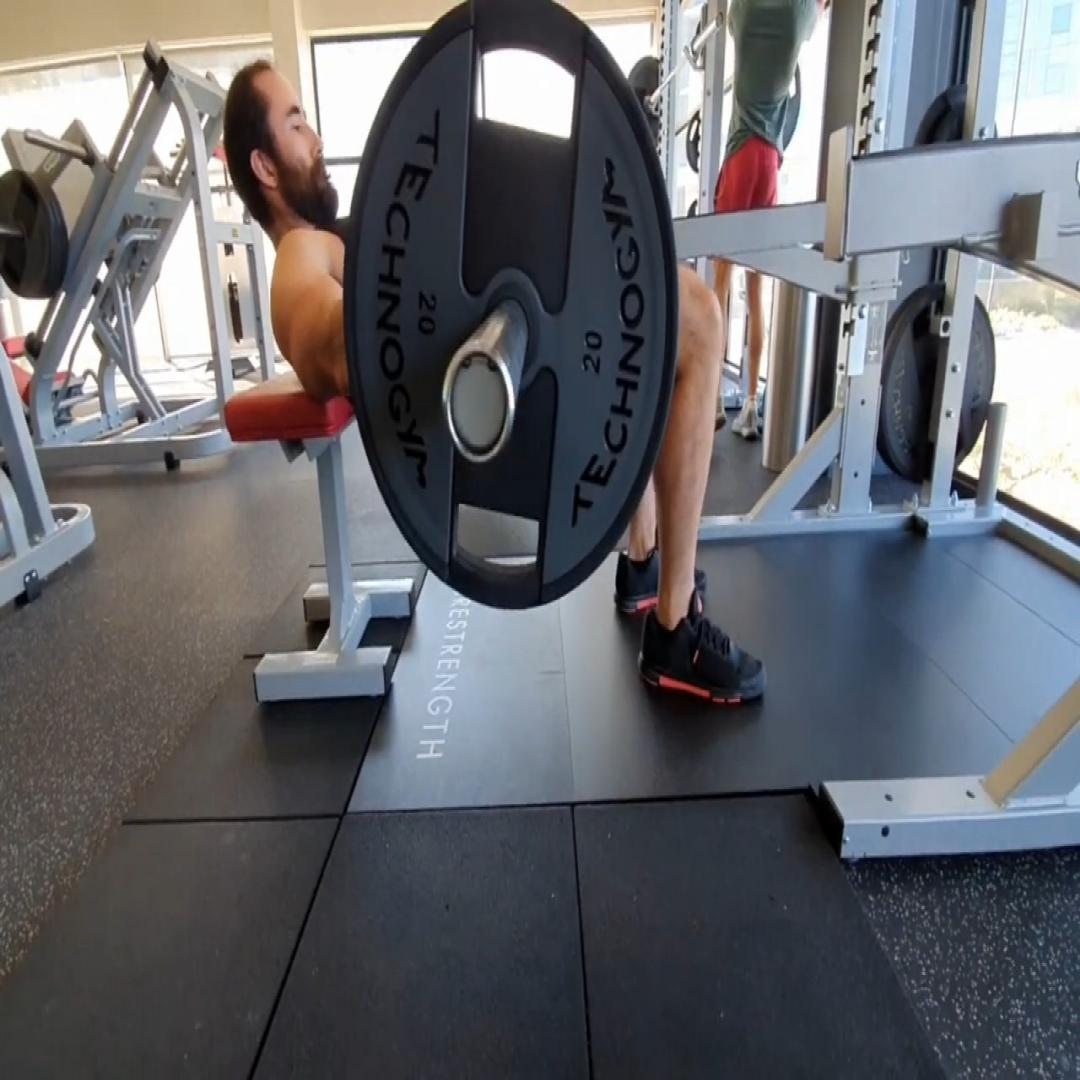Bar: (442, 336, 516, 466)
Barbell: (344, 0, 678, 609)
